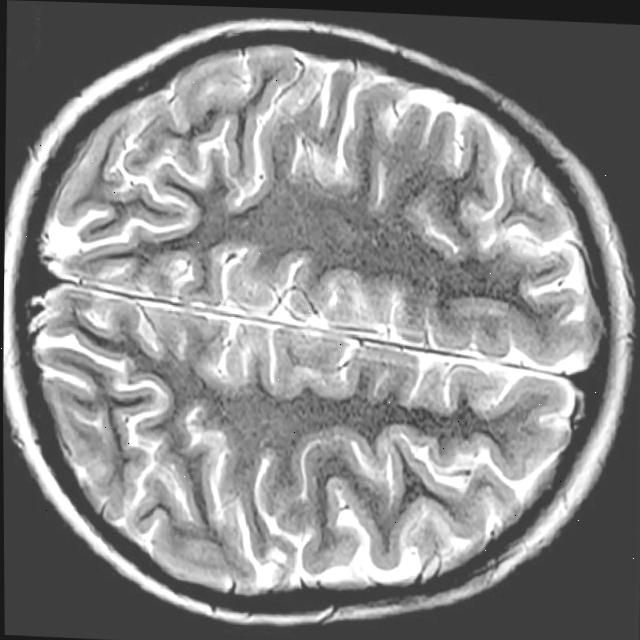NoTumor: (16, 28, 616, 621)
